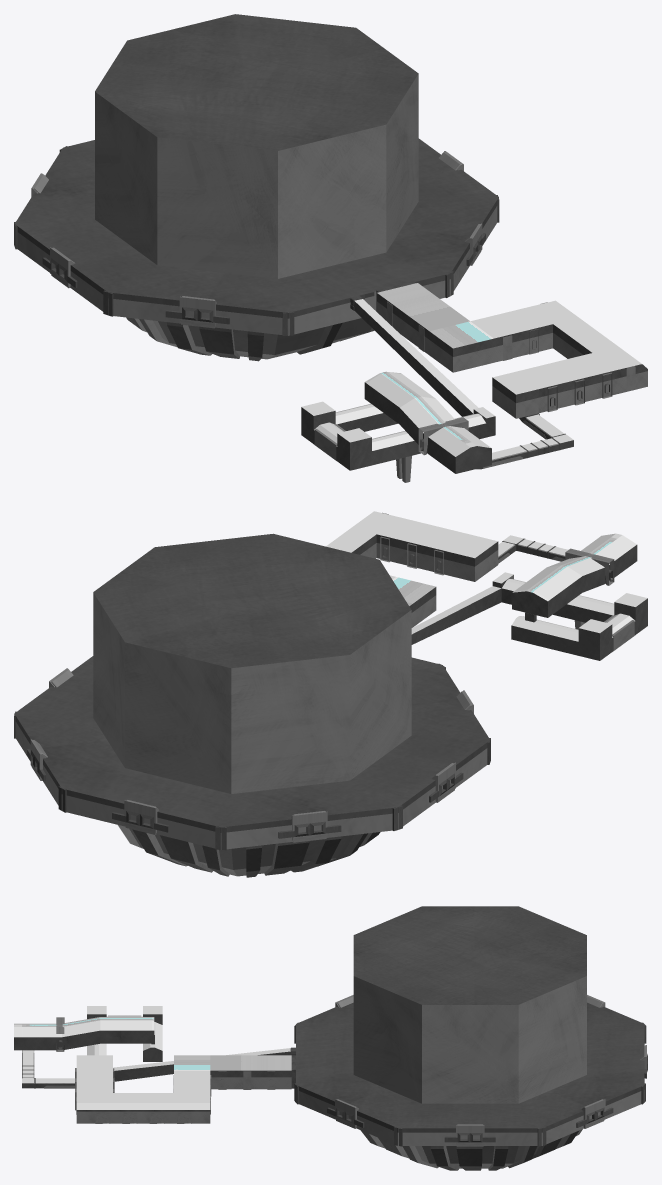
File: the library.fbx
3 renders of one model, top to bottom at view 1: azimuth 30°, elevation 25°; view 2: azimuth 150°, elevation 25°; view 3: azimuth 270°, elevation 25°, orthographic. The views are drawn at different scales.
Visible parts, largest first — view 1: Main Room Ceiling, Second and Third Room Ceiling, Circle, Plane, Plane.001, Fourth Room Ceiling, Flood Tubes.001, Flood Tubes.002; view 2: Main Room Ceiling, Circle, Second and Third Room Ceiling, Plane, Plane.001, Fourth Room Ceiling, Flood Tubes.003, Flood Tubes.004, Flood Tubes.002; view 3: Main Room Ceiling, Second and Third Room Ceiling, Circle, Plane, Fourth Room Ceiling, Plane.001, Flood Tubes.006, Flood Tubes.005, Flood Tubes.007.
Part boxes in pixels (bbox=[...]): Main Room Ceiling: bbox=[15, 14, 498, 312]; Second and Third Room Ceiling: bbox=[365, 283, 641, 459]; Circle: bbox=[15, 197, 498, 361]; Plane: bbox=[364, 281, 647, 473]; Plane.001: bbox=[301, 301, 495, 482]; Fourth Room Ceiling: bbox=[301, 299, 494, 450]; Flood Tubes.001: bbox=[165, 296, 229, 328]; Flood Tubes.002: bbox=[42, 247, 77, 288]; Main Room Ceiling: bbox=[14, 533, 489, 827]; Circle: bbox=[14, 714, 489, 877]; Second and Third Room Ceiling: bbox=[326, 511, 636, 605]; Plane: bbox=[351, 534, 637, 627]; Plane.001: bbox=[411, 575, 647, 660]; Fourth Room Ceiling: bbox=[411, 572, 647, 641]; Flood Tubes.003: bbox=[278, 811, 341, 842]; Flood Tubes.004: bbox=[112, 800, 168, 834]; Flood Tubes.002: bbox=[429, 762, 463, 802]; Main Room Ceiling: bbox=[296, 906, 644, 1128]; Second and Third Room Ceiling: bbox=[14, 1017, 291, 1109]; Circle: bbox=[296, 1085, 644, 1170]; Plane: bbox=[14, 1030, 295, 1123]; Fourth Room Ceiling: bbox=[87, 1006, 290, 1070]; Plane.001: bbox=[87, 1014, 291, 1081]; Flood Tubes.006: bbox=[444, 1124, 495, 1146]; Flood Tubes.005: bbox=[576, 1099, 613, 1128]; Flood Tubes.007: bbox=[327, 1099, 364, 1128].
Size of the model in its own units: 43764 by 24975 by 78085.
